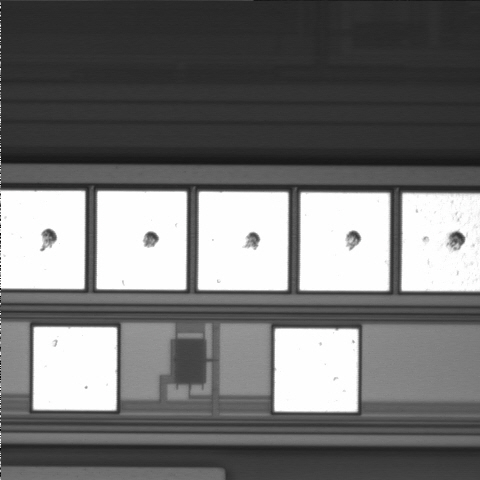pad: (97, 191, 187, 290), (198, 192, 288, 290), (300, 193, 390, 291), (33, 327, 117, 410), (274, 329, 358, 412)
